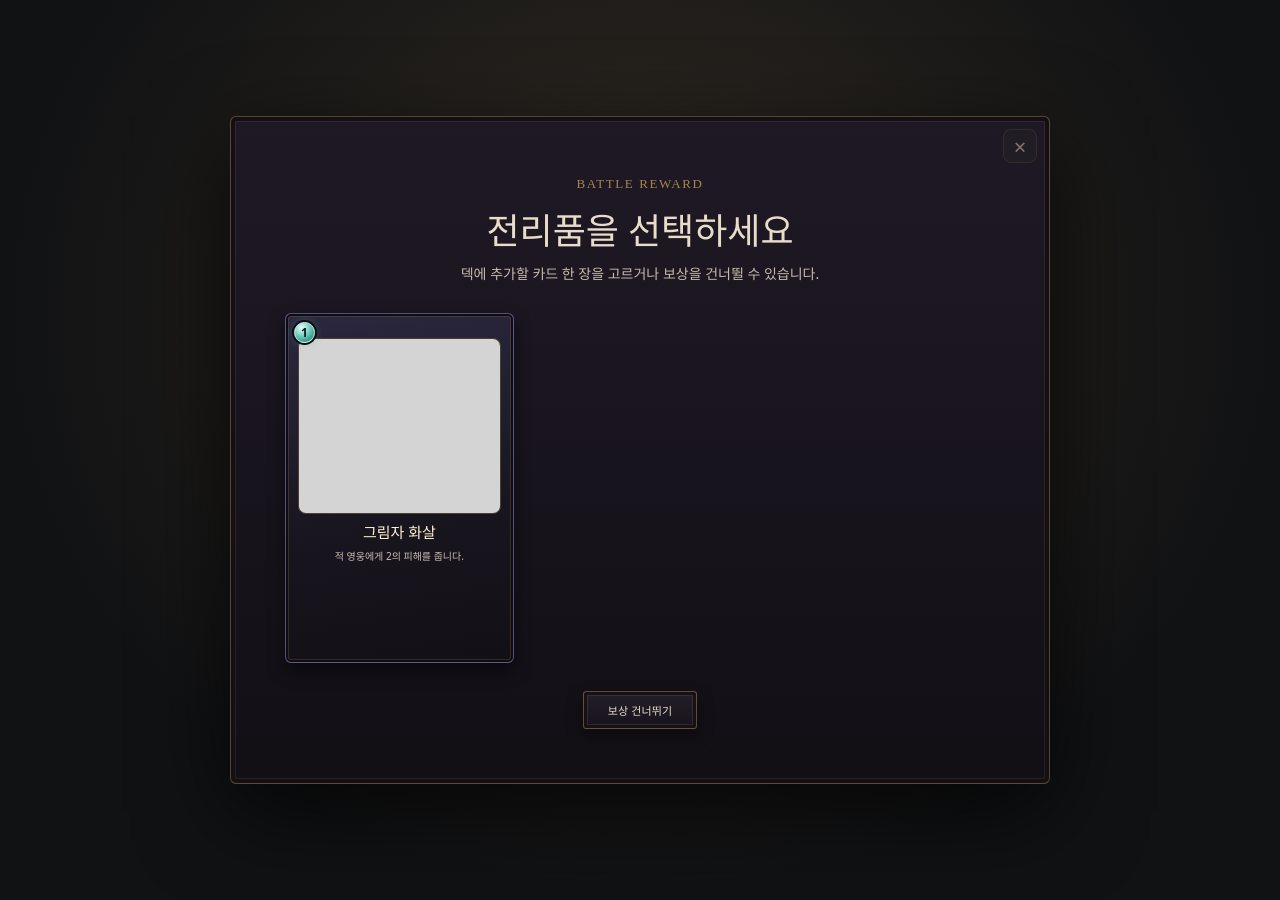
Test: RewardScreen › disables the popup button while the reward is saving or already chosen
The image size is (1280, 900).
Later steps or results of the test are not shown.
What coordinates should you click on to do the following:
click the element showing "1 그림자 화살 적 영웅에게 2의 피해를 줍니다."
I would click on:
 (399, 488)
Its box is [285,313,514,663].
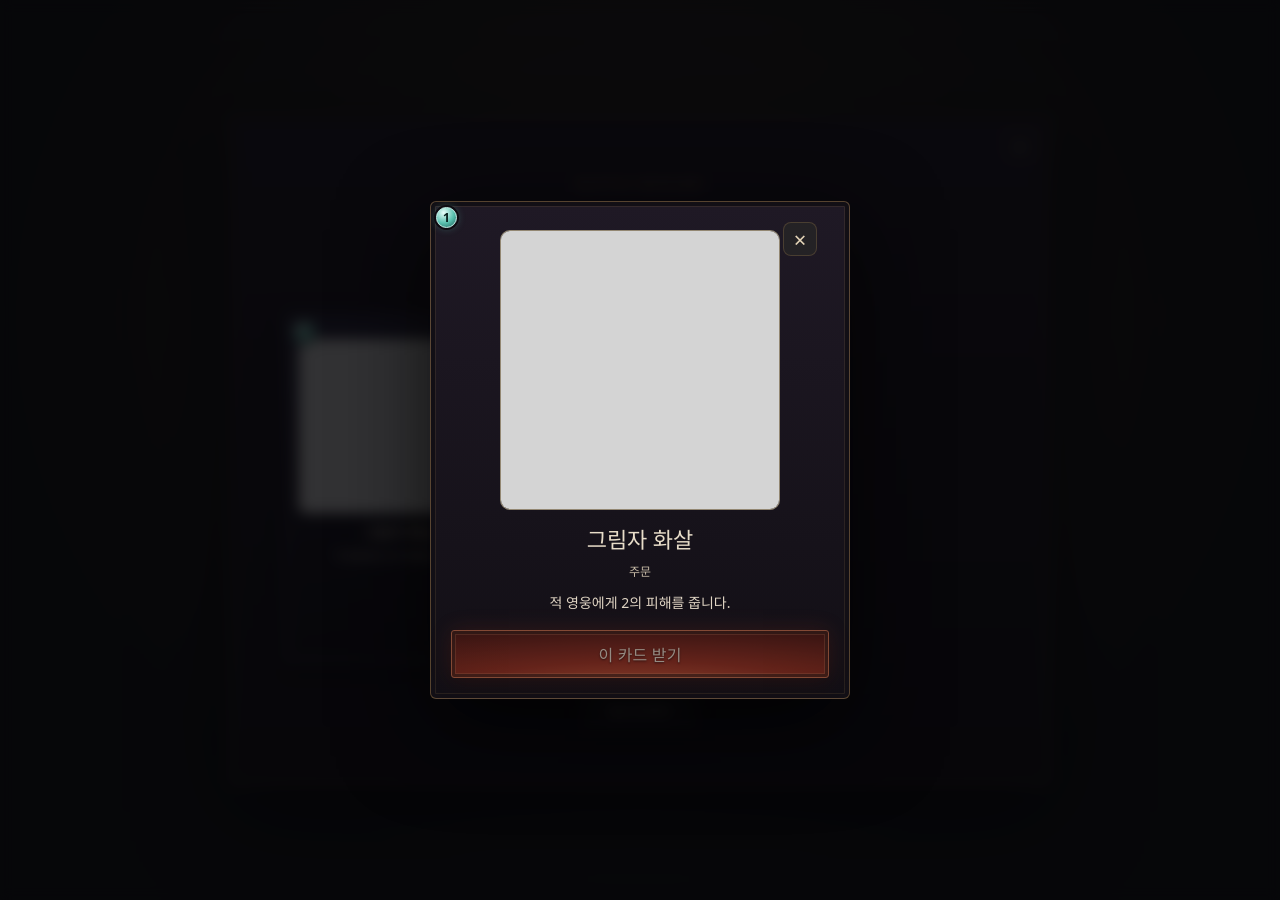
Now the button "이 카드 받기" is disabled, box [451,630,829,678]
